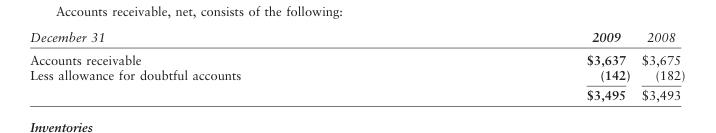table: (29, 28, 684, 102)
table column: (29, 28, 413, 102), (413, 28, 635, 102), (635, 28, 684, 102)
table column header: (29, 28, 684, 47)
table row: (29, 28, 684, 47), (29, 47, 684, 66), (29, 66, 684, 84), (29, 84, 684, 102)
